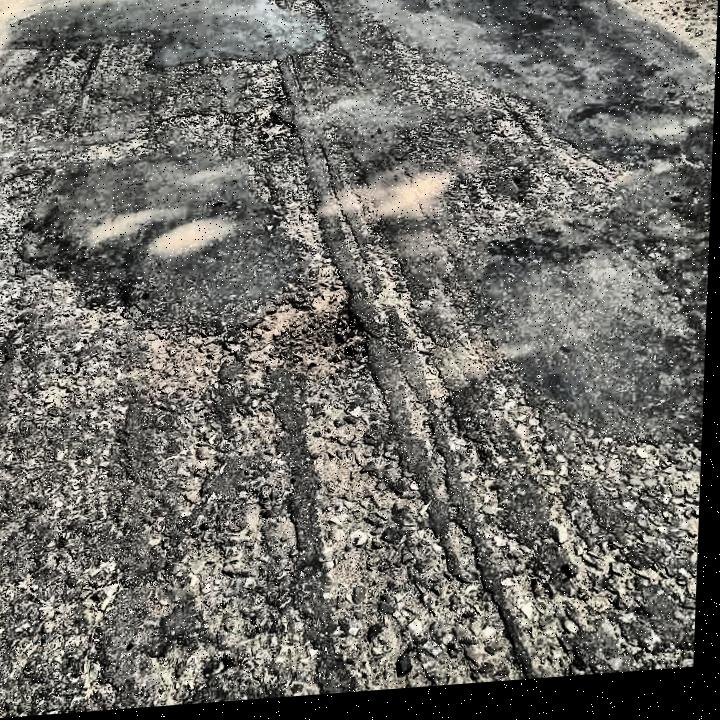pothole: (244, 292, 377, 385), (254, 113, 298, 153)
